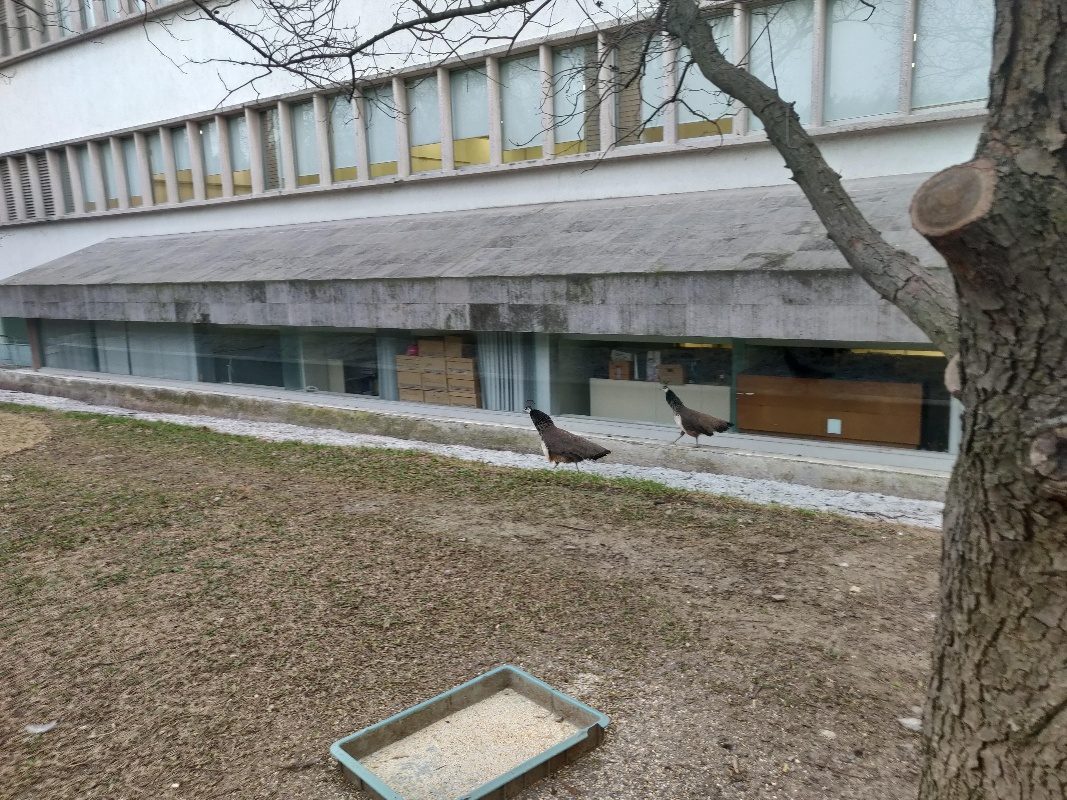pavoreal: (520, 401, 607, 471), (658, 379, 725, 443)
